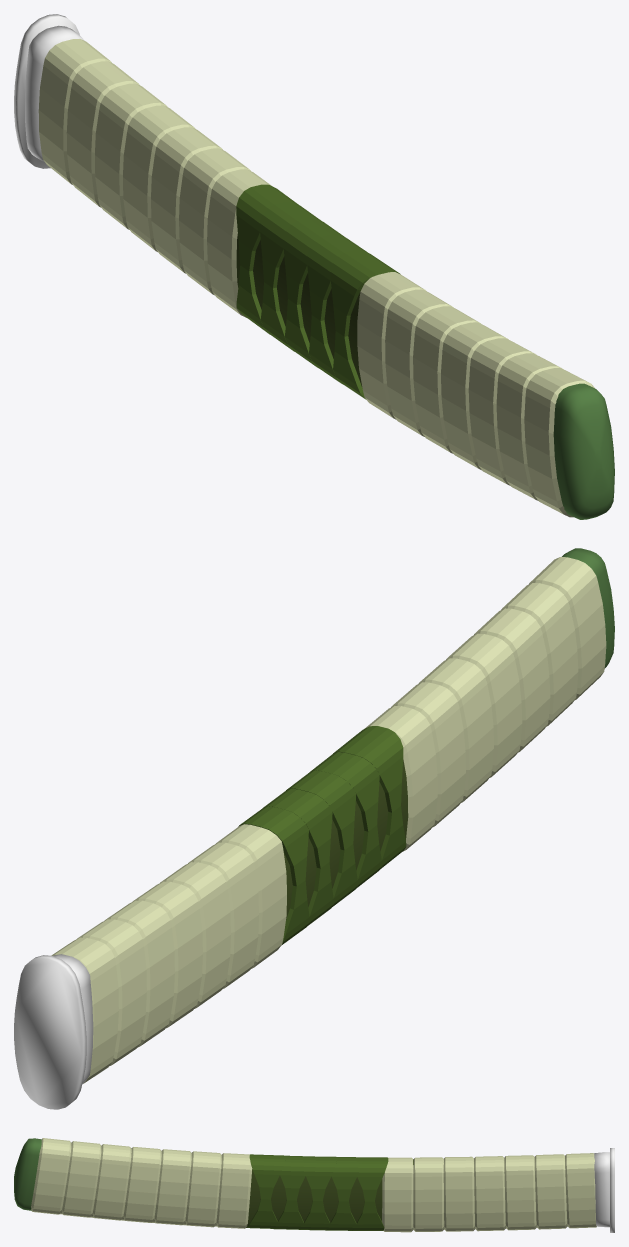
File: hilt_wind.glb
3 views of the same model, one above another, from view 1: azimuth 30°, elevation 25°; view 2: azimuth 150°, elevation 25°; view 3: azimuth 270°, elevation 25° (orthographic). The views are drawn at different scales.
Visible parts, largest first — view 1: HiltDecoration2, HiltDecoration, Hilt; view 2: HiltDecoration2, HiltDecoration, Hilt; view 3: HiltDecoration2, HiltDecoration, Hilt.
Boxes of the visible parts, x1,y1,x2,y2 form: HiltDecoration2: (38,39,594,517); HiltDecoration: (236,184,400,399); Hilt: (14,14,614,519); HiltDecoration2: (51,557,606,1083); HiltDecoration: (238,726,406,945); Hilt: (14,548,614,1109); HiltDecoration2: (31,1138,596,1232); HiltDecoration: (246,1154,388,1230); Hilt: (14,1138,614,1232).
Bounding box in the file's own units: 0.0353 × 0.0822 × 0.4927.
